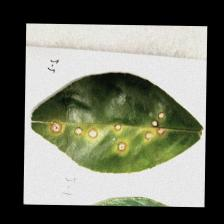canker: (44, 102, 173, 159)
